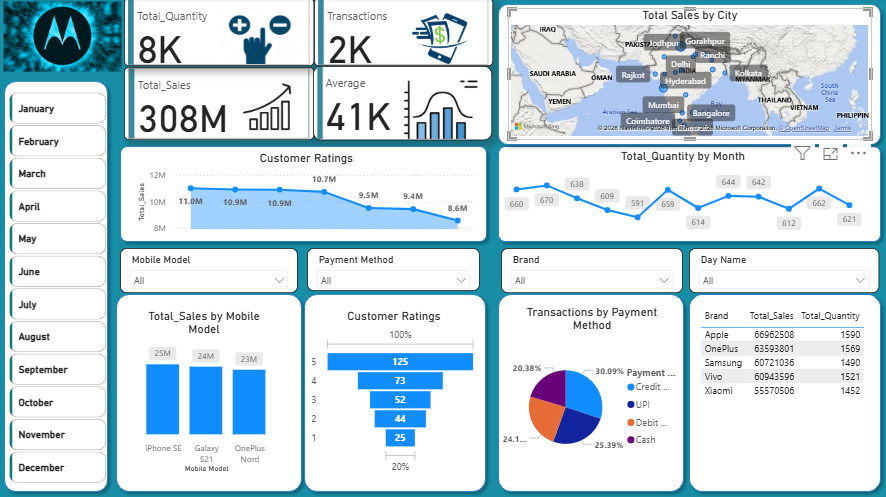

What the dashboard file says about the page in this screenshot:
{"tool":"powerbi","page":{"name":"Page 1","canvas":[1280,720],"ordinal":0},"visuals":[{"type":"image","box":[0,0,185.8,110.9],"z":0},{"type":"shape","box":[0,110.9,167,609.1],"z":1000},{"type":"advancedSlicerVisual","fields":{"Values":["Sales_Data.Date.Variation.Date Hierarchy.Month"]},"box":[11.5,131,149.8,578.9],"z":2000},{"type":"cardVisual","fields":{"Data":["Sales_Data.Total_Sales"]},"box":[181.4,99.4,273.6,105.1],"z":3000},{"type":"cardVisual","fields":{"Data":["Sales_Data.Total_Quantity"]},"box":[181.4,0,273.6,97.9],"z":4000},{"type":"cardVisual","fields":{"Data":["Sales_Data.Transactions"]},"box":[455,0,257.8,97.9],"z":5000},{"type":"cardVisual","fields":{"Data":["Sales_Data.Average"]},"box":[453.6,97.9,257.8,106.6],"z":6000},{"type":"shape","box":[167,204.5,545.8,155.5],"z":7000},{"type":"shape","box":[711.4,204.5,568.8,155.5],"z":8000},{"type":"lineChart","fields":{"Category":["Sales_Data.Date.Variation.Date Hierarchy.Month","Sales_Data.Date.Variation.Date Hierarchy.Day"],"Y":["Sales_Data.Total_Quantity"]},"box":[724.3,217.4,524.2,128.2],"z":9000},{"type":"shape","box":[161.3,417.6,285.1,302.4],"z":10000},{"type":"clusteredColumnChart","fields":{"Category":["Sales_Data.Mobile Model"],"Y":["Sales_Data.Total_Sales"]},"box":[175.7,447.8,241.9,240.5],"z":11000},{"type":"shape","box":[986.4,417.6,293.8,302.4],"z":12000},{"type":"shape","box":[711.4,417.6,285.1,302.4],"z":13000},{"type":"pieChart","fields":{"Y":["Sales_Data.Transactions"],"Category":["Sales_Data.Payment Method"]},"box":[724.3,442.1,262.1,252],"z":14000},{"type":"shape","box":[432,417.6,279.4,302.4],"z":15000},{"type":"funnel","title":"Customer Ratings","fields":{"Category":["Sales_Data.Customer Ratings"],"Y":["CountNonNull(Sales_Data.Customer Ratings)"]},"box":[446.4,447.8,247.7,240.5],"z":16000},{"type":"areaChart","title":"Customer Ratings","fields":{"Category":["Sales_Data.Day Name"],"Y":["Sales_Data.Total_Sales"]},"box":[195.8,220.3,496.8,125.3],"z":17000},{"type":"shape","box":[711.4,0,568.8,220.3],"z":18000},{"type":"tableEx","fields":{"Values":["Sales_Data.Brand","Sales_Data.Total_Sales","Sales_Data.Total_Quantity"]},"box":[1006.6,442.1,252,252],"z":19000},{"type":"map","title":"Total Sales by City","fields":{"Category":["Sales_Data.City"],"Size":["CountNonNull(Sales_Data.City)"]},"box":[734.4,14.4,524.2,190.1],"z":20000},{"type":"slicer","fields":{"Values":["Sales_Data.Mobile Model"]},"box":[175.7,360,256.3,64.8],"z":21000},{"type":"slicer","fields":{"Values":["Sales_Data.Payment Method"]},"box":[445,360,249.1,61.9],"z":22000},{"type":"slicer","fields":{"Values":["Sales_Data.Brand"]},"box":[724.3,360,262.1,64.8],"z":23000},{"type":"slicer","fields":{"Values":["Sales_Data.Day Name"]},"box":[995,360,273.6,64.8],"z":24000}]}

Visuals, with their boxes in screenshot pixels (x1, y1, x2, y2), scaled from the page's 1280x720 canvas onto the 886x497 screenshot:
image: pyautogui.locateOnScreen(0, 0, 129, 77)
shape: pyautogui.locateOnScreen(0, 77, 116, 496)
advancedSlicerVisual - Sales_Data.Date.Variation.Date Hierarchy.Month: pyautogui.locateOnScreen(8, 90, 112, 490)
cardVisual - Sales_Data.Total_Sales: pyautogui.locateOnScreen(126, 69, 315, 141)
cardVisual - Sales_Data.Total_Quantity: pyautogui.locateOnScreen(126, 0, 315, 68)
cardVisual - Sales_Data.Transactions: pyautogui.locateOnScreen(315, 0, 493, 68)
cardVisual - Sales_Data.Average: pyautogui.locateOnScreen(314, 68, 492, 141)
shape: pyautogui.locateOnScreen(116, 141, 493, 248)
shape: pyautogui.locateOnScreen(492, 141, 885, 248)
lineChart - Sales_Data.Date.Variation.Date Hierarchy.Month x Sales_Data.Date.Variation.Date Hierarchy.Day: pyautogui.locateOnScreen(501, 150, 864, 239)
shape: pyautogui.locateOnScreen(112, 288, 309, 496)
clusteredColumnChart - Sales_Data.Mobile Model x Sales_Data.Total_Sales: pyautogui.locateOnScreen(122, 309, 289, 475)
shape: pyautogui.locateOnScreen(683, 288, 885, 496)
shape: pyautogui.locateOnScreen(492, 288, 690, 496)
pieChart - Sales_Data.Transactions x Sales_Data.Payment Method: pyautogui.locateOnScreen(501, 305, 683, 479)
shape: pyautogui.locateOnScreen(299, 288, 492, 496)
"Customer Ratings" funnel: pyautogui.locateOnScreen(309, 309, 480, 475)
"Customer Ratings" areaChart: pyautogui.locateOnScreen(136, 152, 479, 239)
shape: pyautogui.locateOnScreen(492, 0, 885, 152)
tableEx - Sales_Data.Brand x Sales_Data.Total_Sales: pyautogui.locateOnScreen(697, 305, 871, 479)
"Total Sales by City" map: pyautogui.locateOnScreen(508, 10, 871, 141)
slicer - Sales_Data.Mobile Model: pyautogui.locateOnScreen(122, 248, 299, 293)
slicer - Sales_Data.Payment Method: pyautogui.locateOnScreen(308, 248, 480, 291)
slicer - Sales_Data.Brand: pyautogui.locateOnScreen(501, 248, 683, 293)
slicer - Sales_Data.Day Name: pyautogui.locateOnScreen(689, 248, 878, 293)
